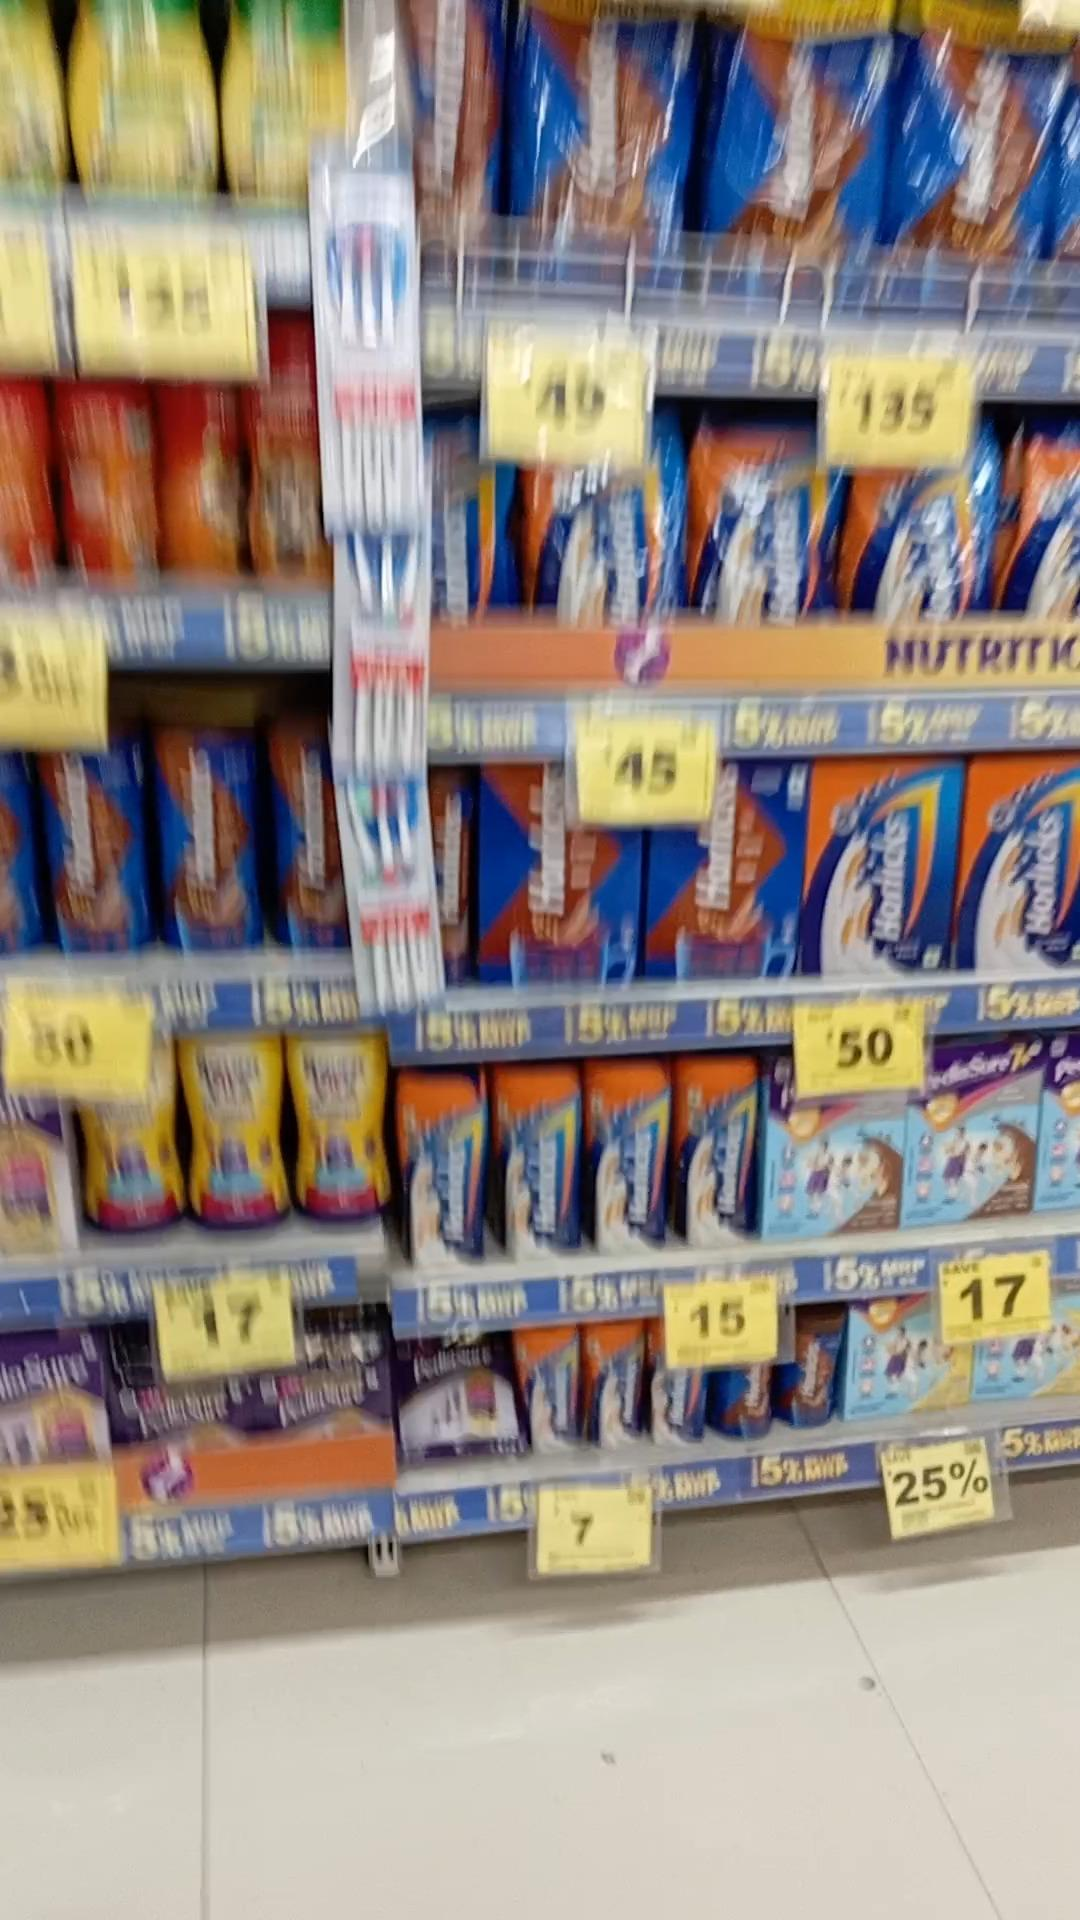BOURN_VITA_CHAMPS_500_G_JAR: (193, 1026, 293, 1232), (293, 1034, 384, 1226), (76, 1087, 175, 1236)
HORLICK_CHOCOLATE_1_KG_JAR: (153, 686, 256, 947), (45, 736, 138, 965), (270, 691, 347, 953)
HORLICK_CHOCOLATE_200_G_JAR: (775, 1315, 845, 1432)
HORLICK_CHOCOLATE_500_G_PACK: (477, 765, 622, 992), (659, 769, 799, 981)
HORLICK_CHOCOLATE_750_G_POUCH: (506, 0, 694, 295), (704, 0, 880, 295), (905, 13, 1051, 314)
HORLICK_CLASSIC_MALT_200_G_JAR: (582, 1325, 641, 1456), (525, 1319, 574, 1462)
HORLICK_CLASSIC_MALT_500_G_JAR: (393, 1067, 485, 1271), (675, 1050, 761, 1254), (587, 1058, 670, 1255), (498, 1069, 578, 1267)
HORLICK_CLASSIC_MALT_500_G_PACK: (814, 756, 949, 975), (969, 752, 1080, 981)
HORLICK_CLASSIC_MALT_750_G_POUCH: (684, 419, 837, 624), (533, 468, 687, 634), (857, 465, 1009, 624)
PEDIASURE_7_PLUS_CHOCOLATE_400_G_PACK: (909, 1040, 1038, 1226), (774, 1080, 901, 1240)
